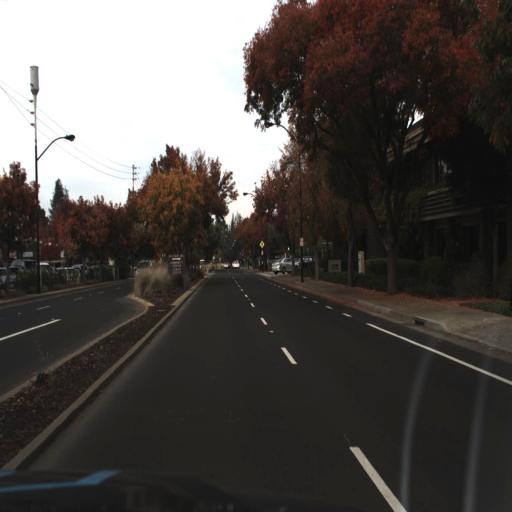car: (270, 255, 301, 276), (133, 256, 154, 278)
